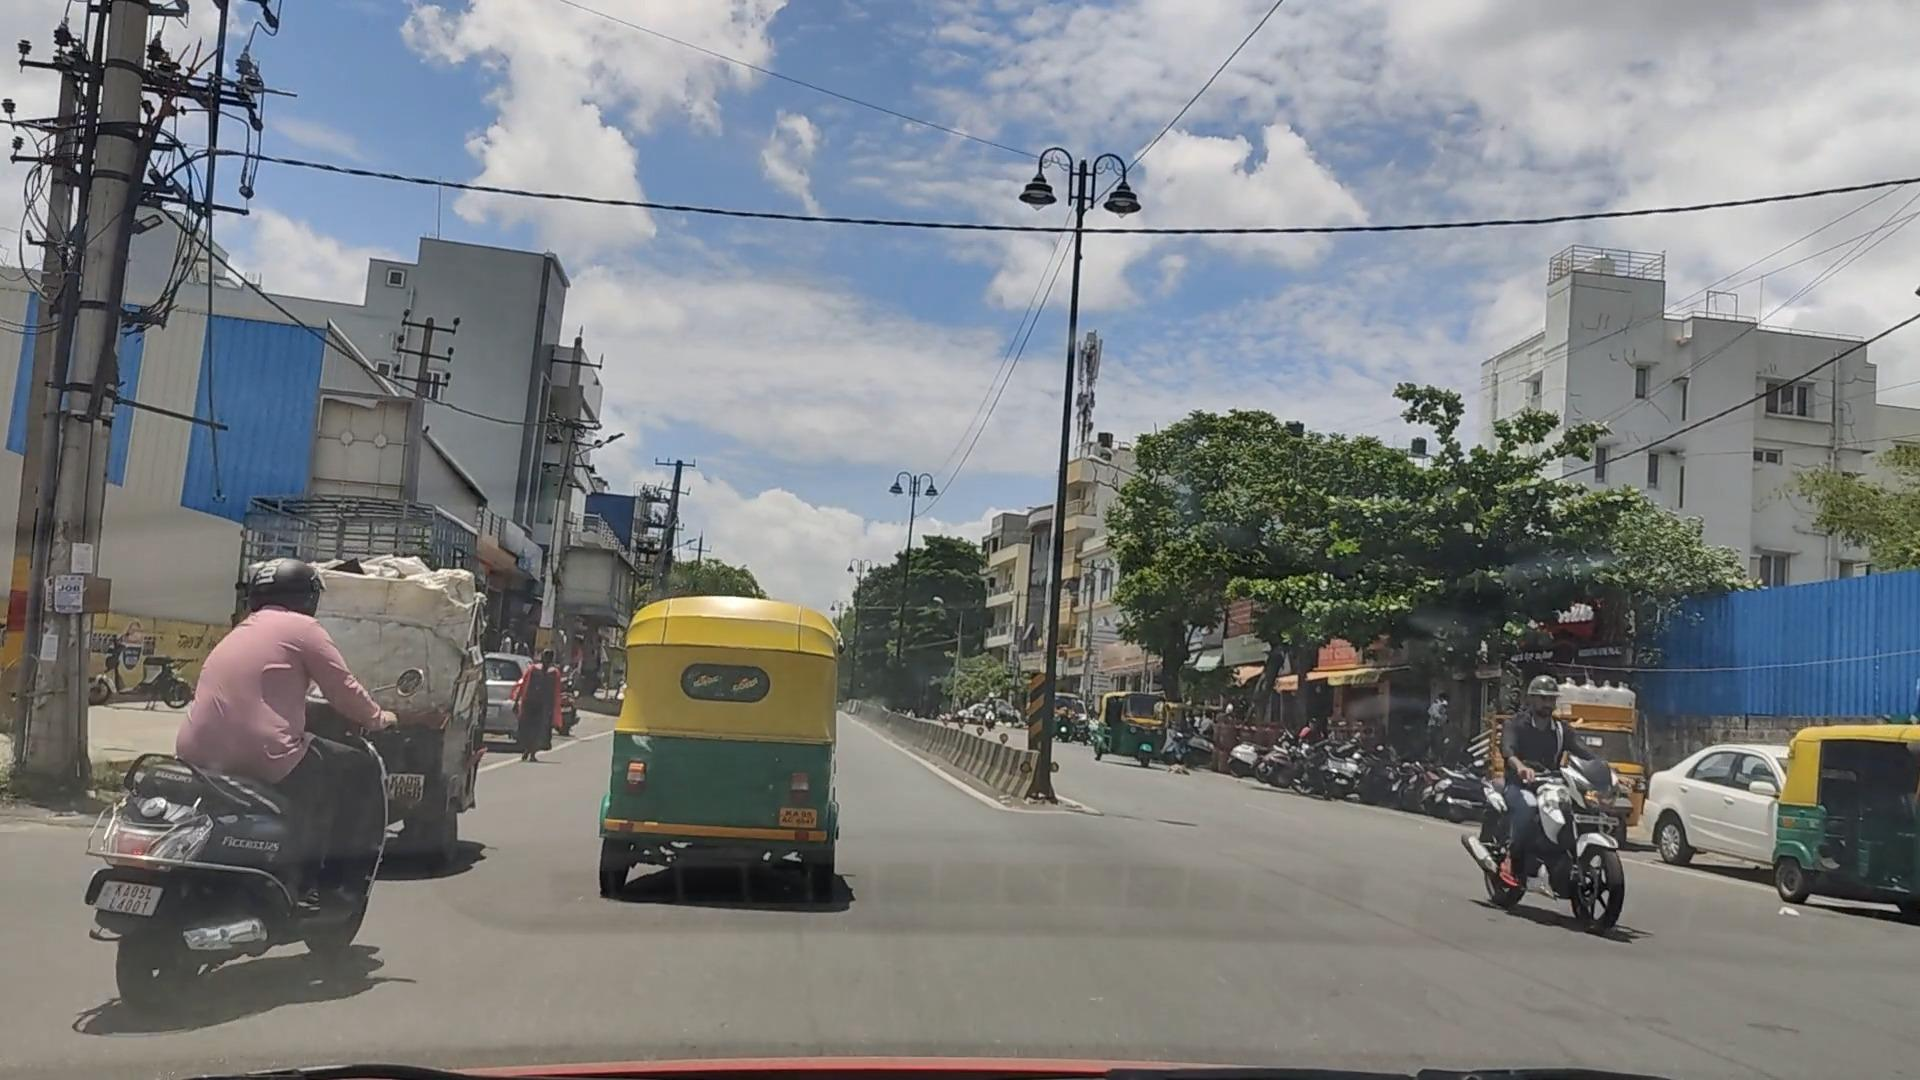LMV: (103, 558, 389, 959), (236, 538, 489, 864), (625, 597, 849, 922)
